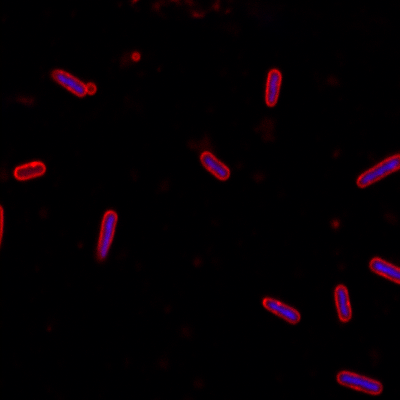Oblique: (93, 209, 120, 266)
Rifampicin: (353, 152, 400, 188), (334, 367, 384, 396), (51, 64, 87, 97), (260, 295, 301, 323), (196, 150, 230, 181), (263, 66, 283, 108), (333, 283, 353, 323)
Vesicle: (329, 217, 341, 231), (129, 50, 141, 63)
